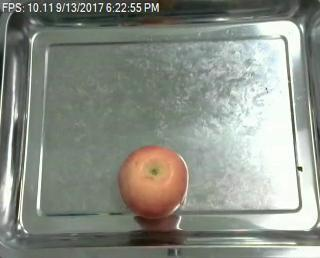apple: (117, 145, 189, 220)
